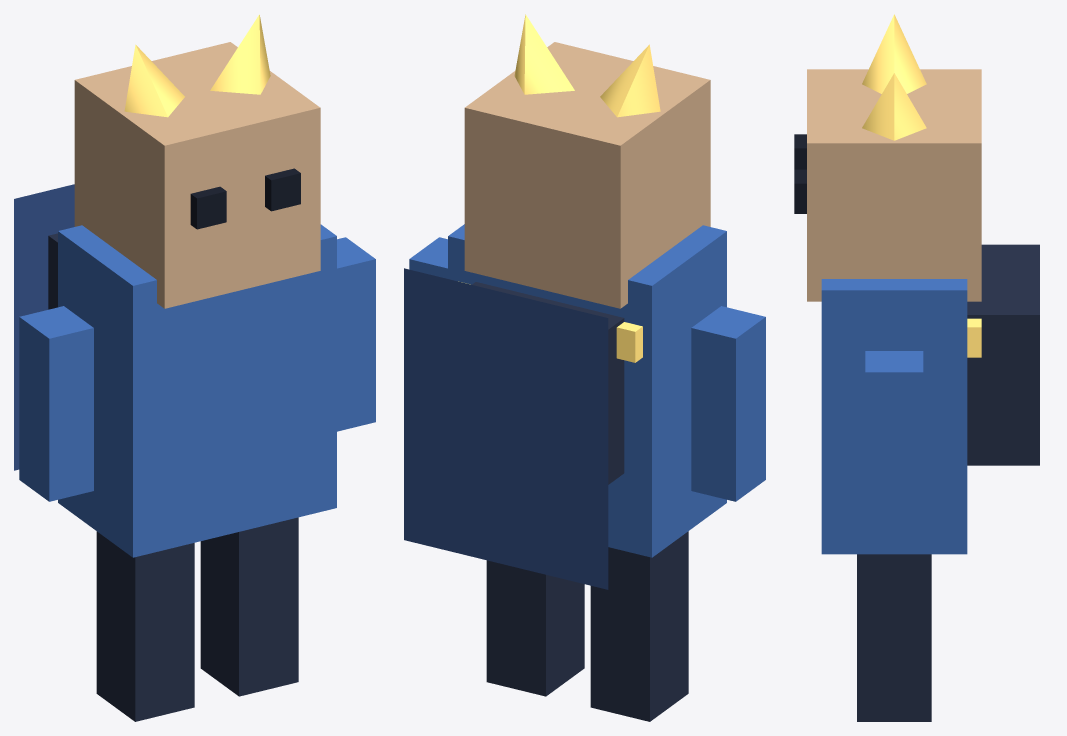
File: messenger.glb
3 views of the same model, side by side, from view 1: azimuth 30°, elevation 25°; view 2: azimuth 150°, elevation 25°; view 3: azimuth 270°, elevation 25° (orthographic). The views are drawn at different scales.
Visible parts, largest first — view 1: n1, n2, n10, n11, n12, n13, n9, n4, n3, n5, n6, n7; view 2: n9, n2, n1, n10, n12, n11, n7, n4, n3, n13, n8; view 3: n2, n1, n7, n11, n13, n3, n4, n8, n6, n5.
Part boxes in pixels (x1,y1,x2,y2): n1: (58, 224, 336, 557); n2: (74, 42, 320, 308); n10: (96, 531, 194, 721); n11: (200, 517, 298, 696); n12: (19, 306, 93, 501); n13: (337, 237, 375, 431); n9: (14, 184, 74, 470); n4: (210, 14, 270, 94); n3: (124, 44, 184, 117); n5: (190, 186, 226, 229); n6: (265, 168, 300, 211); n7: (48, 233, 57, 309); n9: (404, 268, 608, 589); n2: (464, 42, 710, 308); n1: (448, 224, 726, 557); n10: (590, 531, 688, 721); n12: (691, 306, 765, 501); n11: (486, 560, 584, 696); n7: (472, 282, 624, 484); n4: (514, 14, 574, 94); n3: (600, 44, 660, 117); n13: (409, 237, 447, 278); n8: (458, 281, 642, 362); n2: (807, 69, 981, 301); n1: (821, 279, 967, 554); n7: (967, 244, 1039, 465); n11: (857, 554, 931, 721); n13: (865, 351, 923, 530); n3: (862, 14, 926, 93); n4: (862, 73, 926, 140); n8: (967, 318, 981, 357); n6: (794, 169, 806, 213); n5: (794, 134, 806, 169).
Size of the model in its own units: 0.88 by 1.7 by 0.62.
